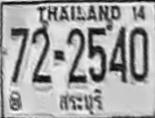0: (129, 26, 148, 81)
2: (66, 28, 87, 82), (32, 28, 52, 84)
4: (108, 26, 126, 82)
5: (88, 27, 106, 82)
7: (10, 28, 29, 80)
SRI: (54, 89, 104, 114)
